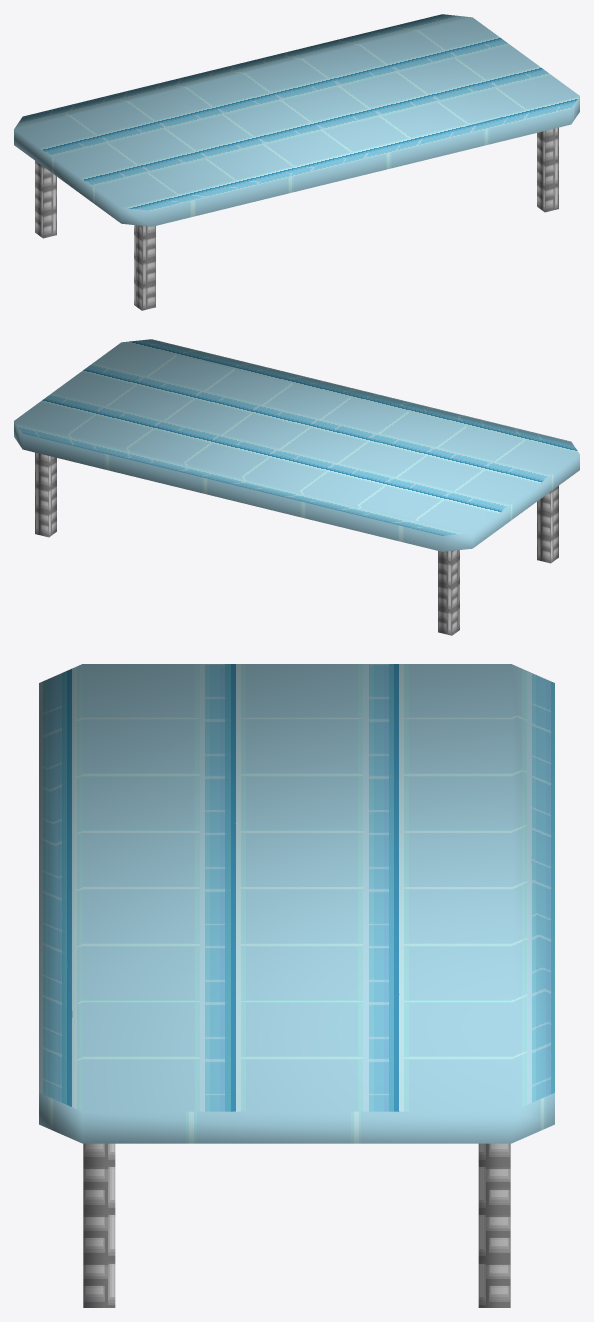
The model's file is 3236IMSD01_22.gltf.
3 views of the same model, one above another, from view 1: azimuth 30°, elevation 25°; view 2: azimuth 150°, elevation 25°; view 3: azimuth 270°, elevation 25° (orthographic). The views are drawn at different scales.
Parts seen in each view (by area): view 1: 3236IMSD01_22; view 2: 3236IMSD01_22; view 3: 3236IMSD01_22.
Boxes of the visible parts, box(x1,y1,x2,y2) form: 3236IMSD01_22: box(14, 14, 579, 310); 3236IMSD01_22: box(14, 339, 579, 635); 3236IMSD01_22: box(39, 664, 554, 1307).
Bounding box in the file's own units: 1.95 × 0.4399 × 0.9502.
Materials: 2 (2 with a texture image).
